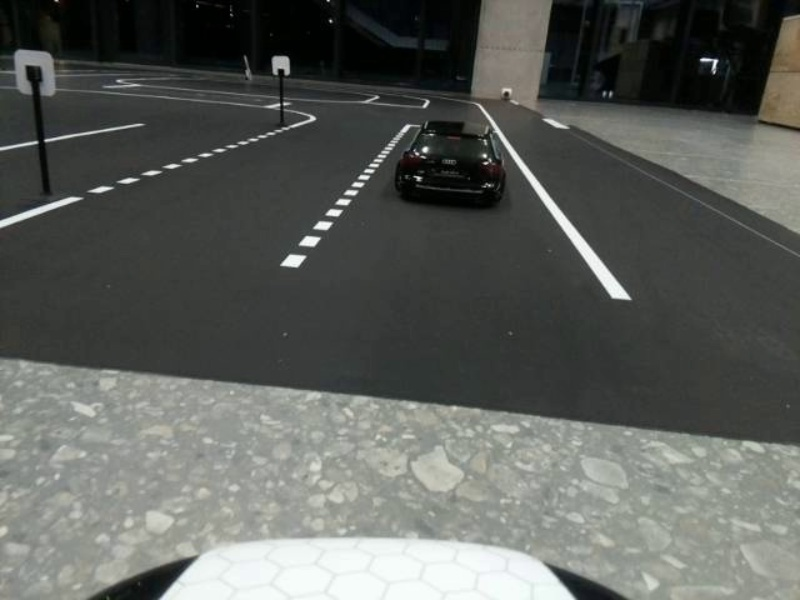car: (390, 112, 514, 213)
